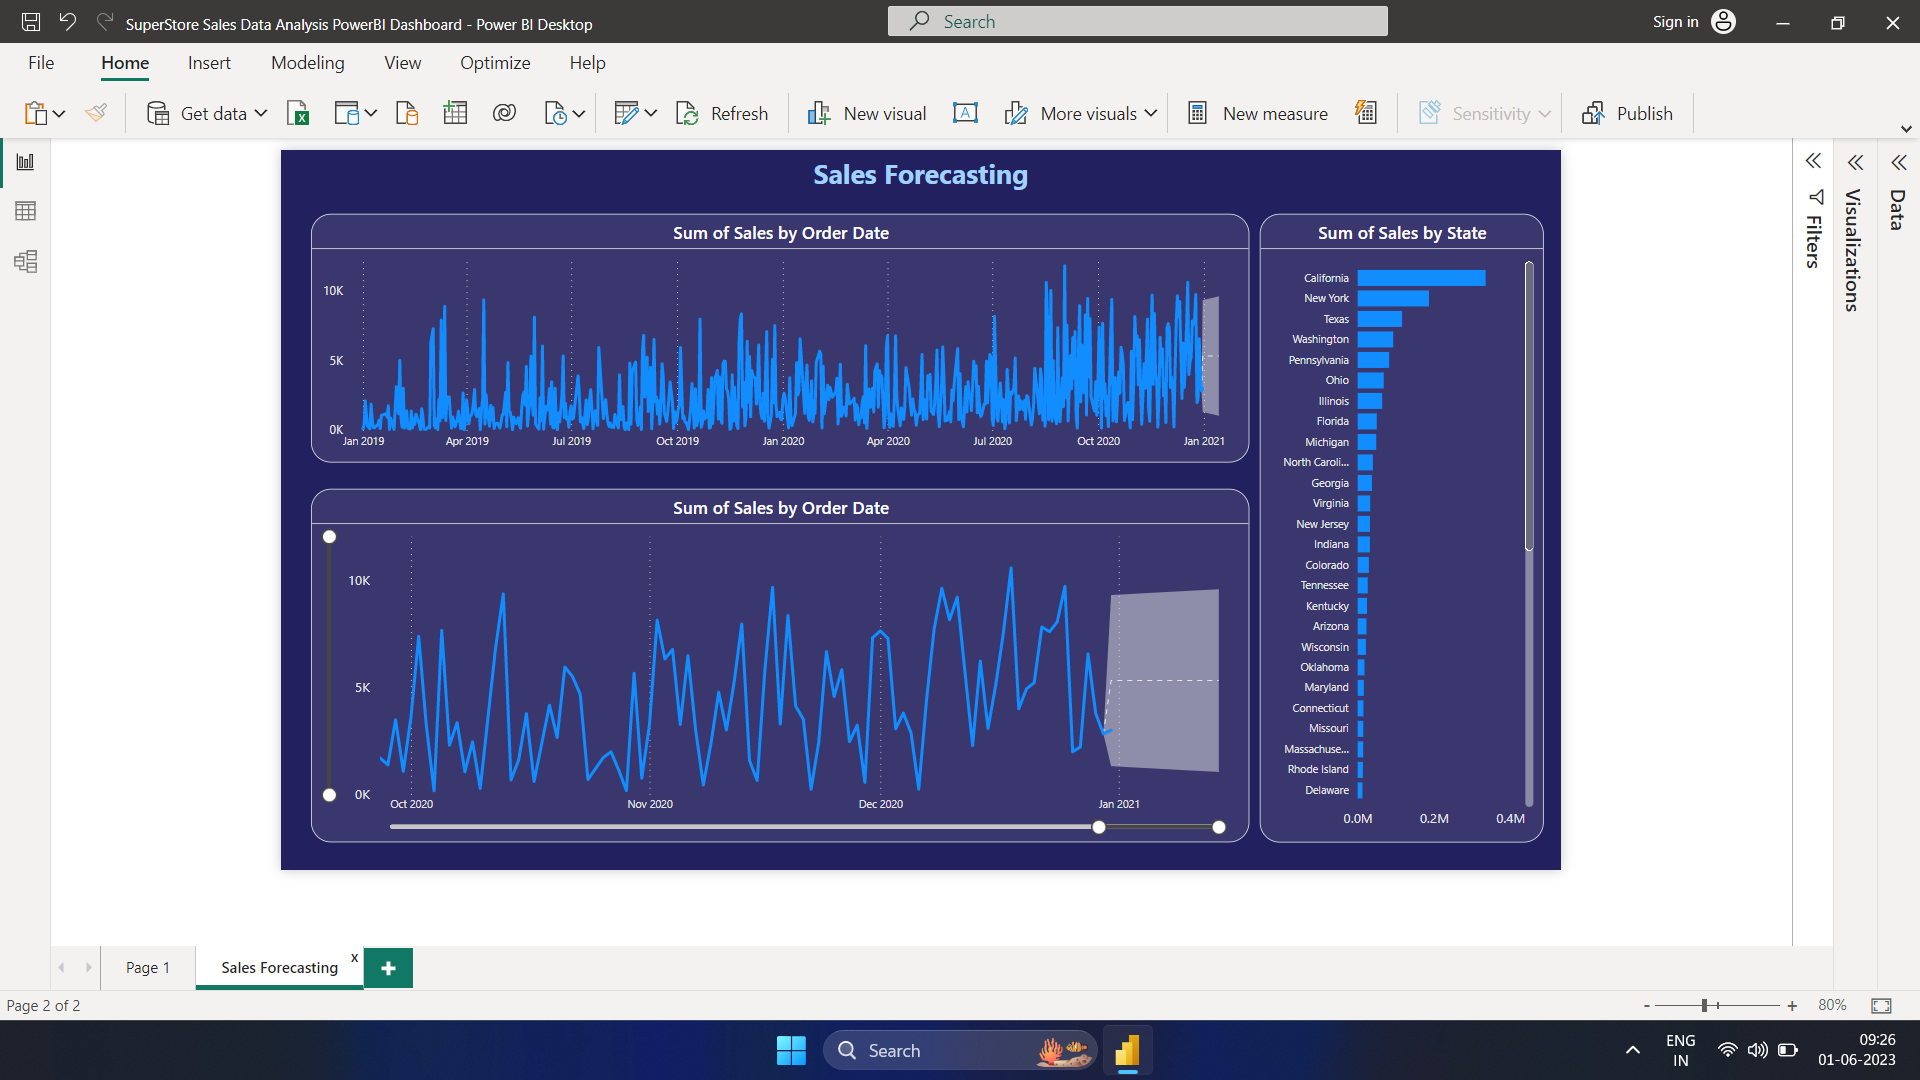

This screenshot's page, from the dashboard's own definition file:
{"tool":"powerbi","page":{"name":"Sales Forecasting ","canvas":[1280,720],"ordinal":1},"visuals":[{"type":"lineChart","fields":{"Y":["Sum(SuperStore_Sales_Dataset.Sales)"],"Category":["SuperStore_Sales_Dataset.Order Date"]},"box":[30,63.8,938.8,248.8],"z":0},{"type":"lineChart","fields":{"Y":["Sum(SuperStore_Sales_Dataset.Sales)"],"Category":["SuperStore_Sales_Dataset.Order Date"]},"box":[30,338.8,938.8,353.8],"z":1},{"type":"barChart","fields":{"Y":["Sum(SuperStore_Sales_Dataset.Sales)"],"Category":["SuperStore_Sales_Dataset.State"]},"box":[978.8,63.8,283.8,628.8],"z":2},{"type":"textbox","box":[490,0,300,52.5],"z":3}]}

Visuals, with their boxes on the page's 1280x720 design canvas (x1, y1, x2, y2). These are canvas units, not pixel positions in the 1920x1080 screenshot, which may show the page scaled, cropped or inside an application window:
lineChart - Sum(SuperStore_Sales_Dataset.Sales) x SuperStore_Sales_Dataset.Order Date: (x1=30, y1=64, x2=969, y2=313)
lineChart - Sum(SuperStore_Sales_Dataset.Sales) x SuperStore_Sales_Dataset.Order Date: (x1=30, y1=339, x2=969, y2=693)
barChart - Sum(SuperStore_Sales_Dataset.Sales) x SuperStore_Sales_Dataset.State: (x1=979, y1=64, x2=1263, y2=693)
textbox: (x1=490, y1=0, x2=790, y2=52)
